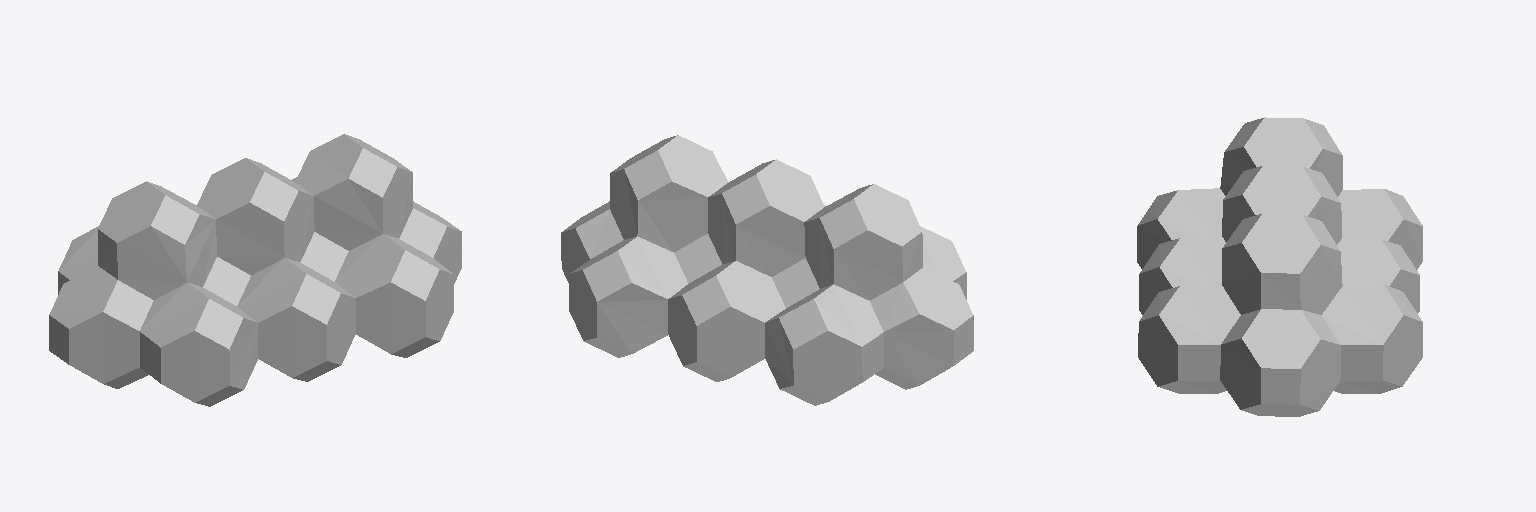
The model's file is fcc13.obj.
3 renders of one model, left to right at view 1: azimuth 30°, elevation 25°; view 2: azimuth 150°, elevation 25°; view 3: azimuth 270°, elevation 25°, orthographic.
Parts seen in each view (by area): view 1: Obj2.005_Mesh2.005, Obj4.002_Mesh4.002, Obj2.002_Mesh2.002, Obj2.001_Mesh2.001, Obj4.001_Mesh4.001, Obj4_Mesh4, Obj1.001_Mesh1.001, Obj3.001_Mesh3.001, Obj2.004_Mesh2.004, Obj3_Mesh3, Obj1_Mesh1; view 2: Obj2.004_Mesh2.004, Obj4.002_Mesh4.002, Obj2.003_Mesh2.003, Obj2_Mesh2, Obj4.001_Mesh4.001, Obj4_Mesh4, Obj1.001_Mesh1.001, Obj3.001_Mesh3.001, Obj2.005_Mesh2.005, Obj3_Mesh3, Obj1_Mesh1; view 3: Obj3.001_Mesh3.001, Obj4.001_Mesh4.001, Obj2.002_Mesh2.002, Obj2.003_Mesh2.003, Obj4.002_Mesh4.002, Obj4_Mesh4, Obj2.005_Mesh2.005, Obj2.004_Mesh2.004, Obj2.001_Mesh2.001, Obj2_Mesh2.
Part boxes in pixels (x1,y1,x2,y2): Obj2.005_Mesh2.005: (140, 283, 257, 406); Obj4.002_Mesh4.002: (98, 181, 216, 299); Obj2.002_Mesh2.002: (335, 234, 453, 357); Obj2.001_Mesh2.001: (237, 258, 355, 381); Obj4.001_Mesh4.001: (295, 134, 412, 250); Obj4_Mesh4: (197, 158, 314, 275); Obj1.001_Mesh1.001: (49, 266, 153, 388); Obj3.001_Mesh3.001: (399, 201, 461, 283); Obj2.004_Mesh2.004: (58, 226, 98, 294); Obj3_Mesh3: (300, 232, 348, 281); Obj1_Mesh1: (203, 257, 250, 305); Obj2.004_Mesh2.004: (765, 284, 883, 405); Obj4.002_Mesh4.002: (804, 184, 922, 300); Obj2.003_Mesh2.003: (568, 236, 687, 357); Obj2_Mesh2: (668, 261, 785, 381); Obj4.001_Mesh4.001: (610, 135, 728, 251); Obj4_Mesh4: (708, 159, 823, 276); Obj1.001_Mesh1.001: (870, 268, 973, 389); Obj3.001_Mesh3.001: (561, 201, 623, 282); Obj2.005_Mesh2.005: (920, 226, 966, 299); Obj3_Mesh3: (674, 234, 721, 283); Obj1_Mesh1: (772, 258, 819, 307); Obj3.001_Mesh3.001: (1220, 309, 1340, 416); Obj4.001_Mesh4.001: (1222, 213, 1342, 314); Obj2.002_Mesh2.002: (1138, 284, 1240, 393); Obj2.003_Mesh2.003: (1322, 284, 1422, 393); Obj4.002_Mesh4.002: (1220, 117, 1342, 196); Obj4_Mesh4: (1222, 165, 1341, 244); Obj2.005_Mesh2.005: (1137, 188, 1225, 268); Obj2.004_Mesh2.004: (1338, 189, 1422, 269); Obj2.001_Mesh2.001: (1139, 236, 1225, 314); Obj2_Mesh2: (1337, 239, 1419, 313).
Bounding box in the file's own units: 4.91 × 2.16 × 3.1.